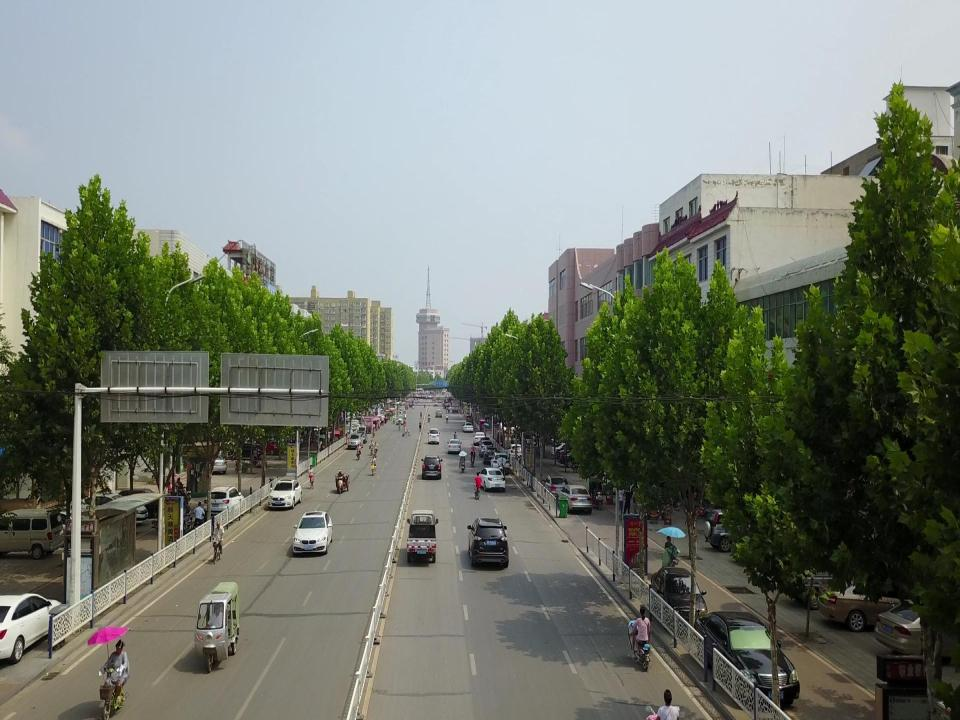car: (693, 612, 801, 707), (778, 536, 884, 606), (816, 579, 948, 632), (874, 597, 960, 657), (0, 592, 63, 666), (651, 566, 711, 624), (705, 508, 793, 547), (70, 494, 148, 526), (467, 516, 509, 570), (293, 509, 331, 558), (112, 489, 167, 520), (203, 486, 245, 519), (556, 485, 594, 516), (267, 480, 302, 508), (476, 468, 506, 491), (542, 476, 568, 500), (559, 450, 591, 468), (551, 440, 583, 458), (514, 422, 546, 440), (500, 418, 532, 436), (230, 442, 262, 459), (205, 451, 227, 475), (421, 455, 441, 479), (260, 439, 284, 456), (490, 452, 510, 471), (482, 448, 498, 465), (448, 439, 462, 453), (509, 444, 523, 458), (427, 429, 440, 444), (474, 432, 486, 444), (463, 422, 473, 432), (434, 408, 442, 419), (396, 415, 404, 424)
truck: (406, 509, 438, 564)
van: (0, 508, 64, 559), (479, 439, 493, 458), (347, 434, 363, 450)
